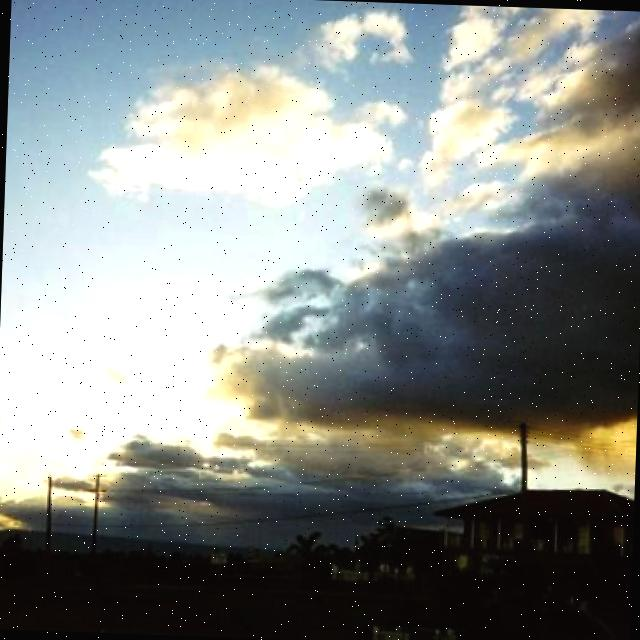Sc: (1, 3, 640, 445)
